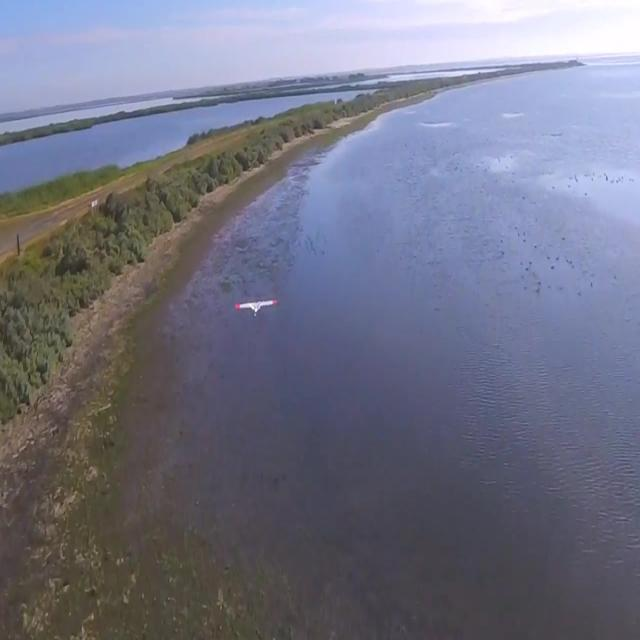iha: (234, 298, 278, 317)
